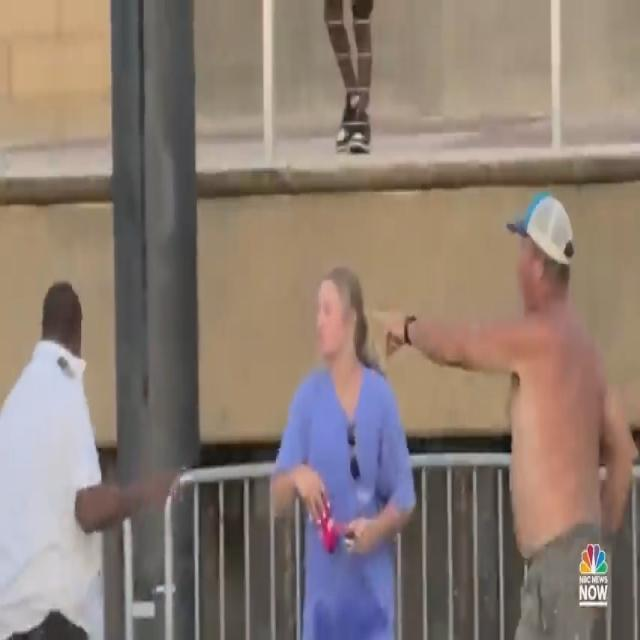non-fight: (0, 178, 639, 640)
